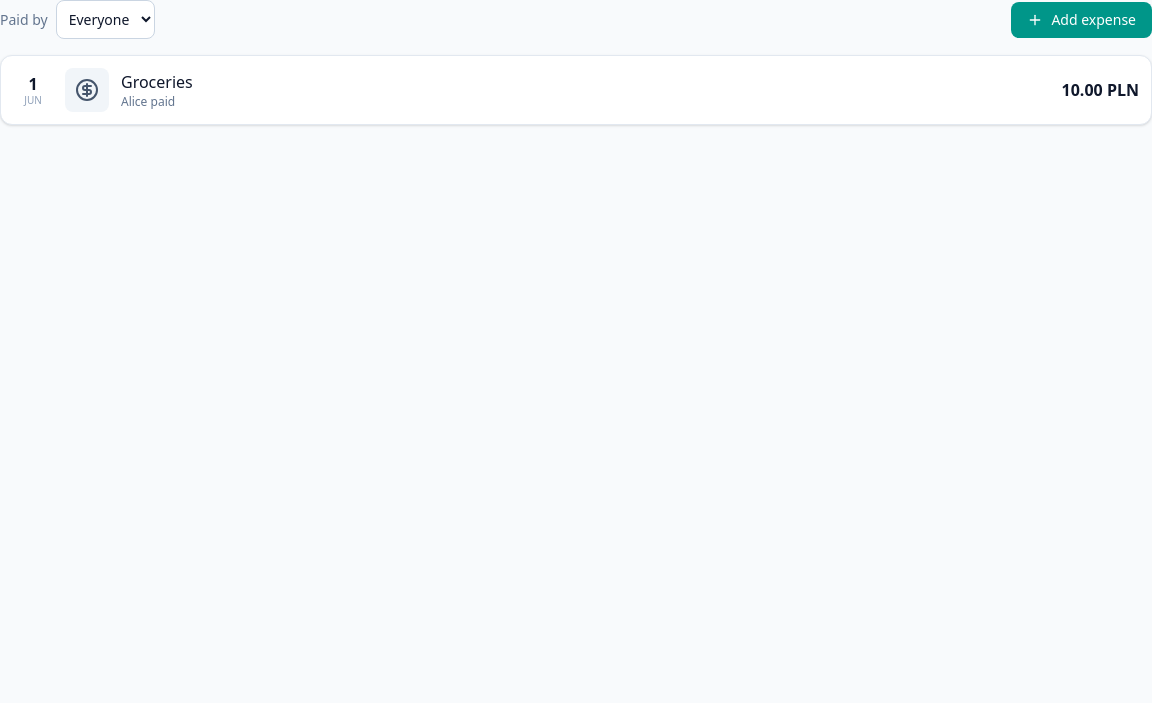
Test: ExpensesTab — edit attribution › shows it once the expense is opened
Click the text "Groceries": (157, 82) [121,71,193,93]
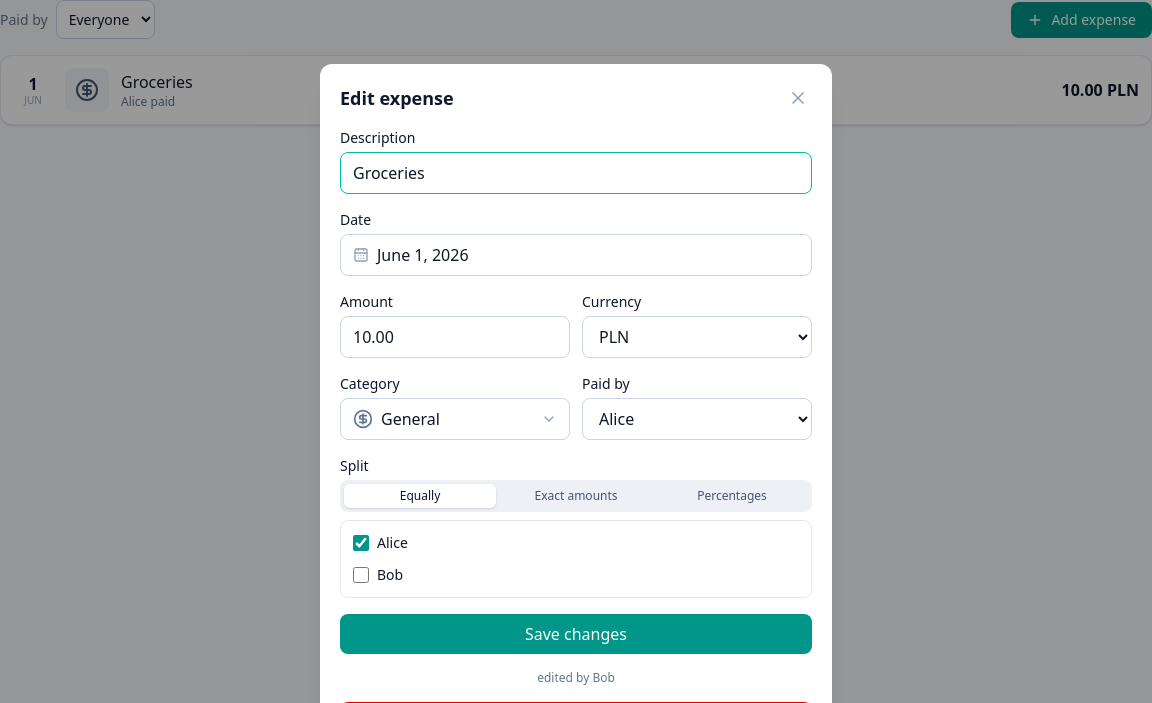
Now the text "edited by Bob" is shown, box [537,669,615,686]
